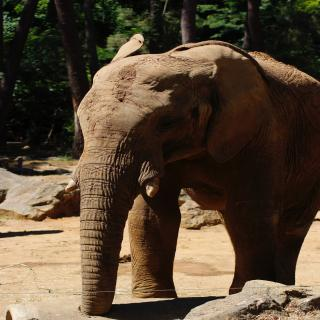Elephant: (48, 29, 320, 320)
